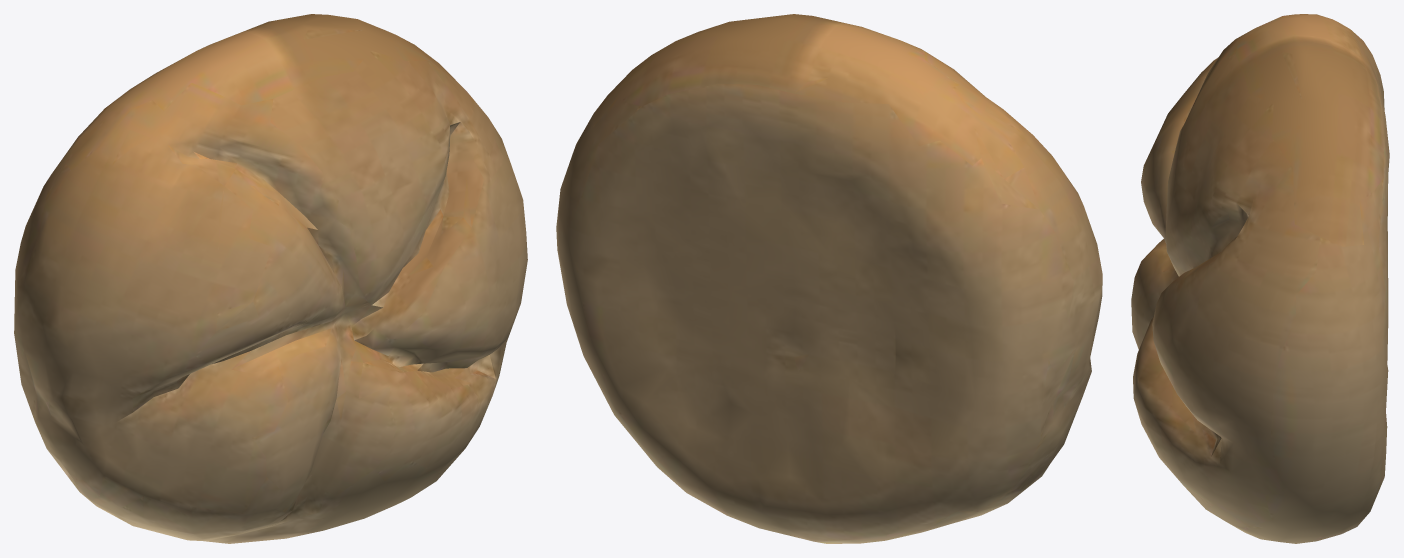
Rendered from roll.glb.
3 renders of one model, left to right at view 1: azimuth 30°, elevation 25°; view 2: azimuth 150°, elevation 25°; view 3: azimuth 270°, elevation 25°, orthographic. The views are drawn at different scales.
Parts seen in each view (by area): view 1: roll; view 2: roll; view 3: roll.
Part boxes in pixels (x1,y1,x2,y2): roll: (14, 14, 527, 543); roll: (556, 14, 1102, 543); roll: (1131, 14, 1389, 543).
Bounding box in the file's own units: 0.0999 × 0.0956 × 0.0479.
1 material, 1 textured.
